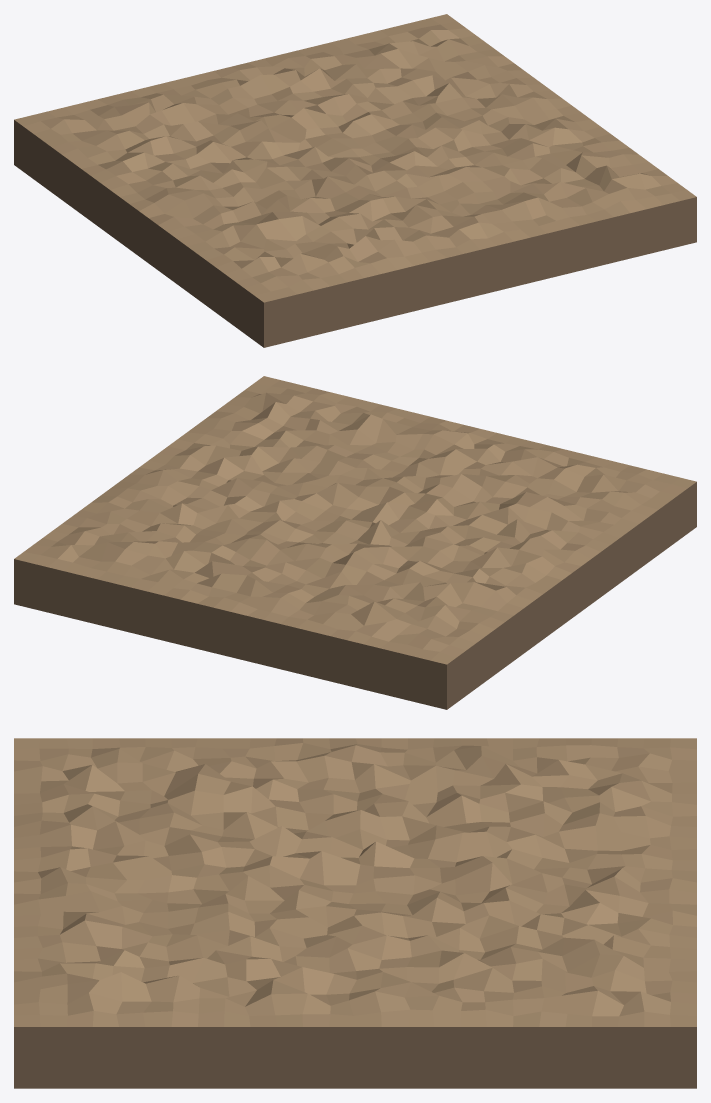
The model's file is UntilledSoil.fbx.
The picture shows the model from 3 angles, top to bottom: view 1: azimuth 30°, elevation 25°; view 2: azimuth 150°, elevation 25°; view 3: azimuth 270°, elevation 25°; orthographic projection. The views are drawn at different scales.
Parts seen in each view (by area): view 1: Tile_Untilled; view 2: Tile_Untilled; view 3: Tile_Untilled.
Part boxes in pixels (left/top/right/bottom): Tile_Untilled: left=14, top=14, right=696, bottom=347; Tile_Untilled: left=14, top=376, right=696, bottom=709; Tile_Untilled: left=14, top=738, right=696, bottom=1088.
Size of the model in its own units: 1 by 0.1337 by 1.
